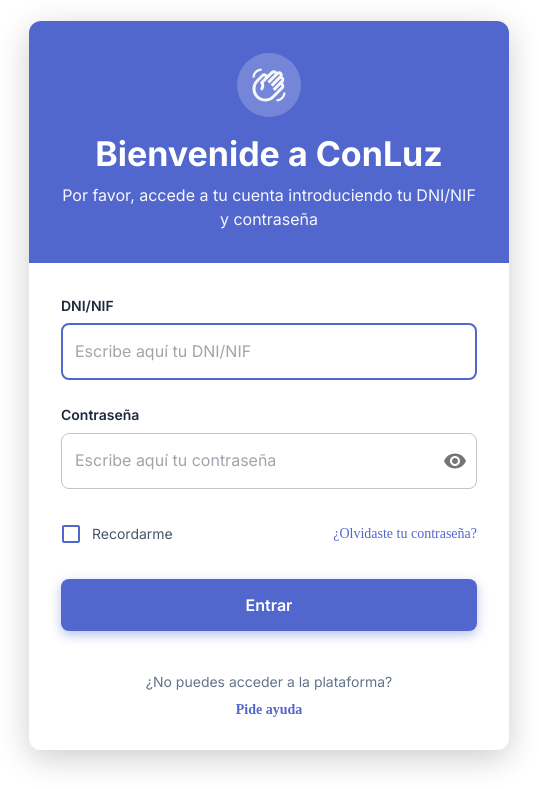
Test case: Login component › shows error if login fails
In the field with placeholder "Escribe aquí tu DNI/NIF": (269, 352) top-left (61, 324), bottom-right (477, 380), type "1234567Z"
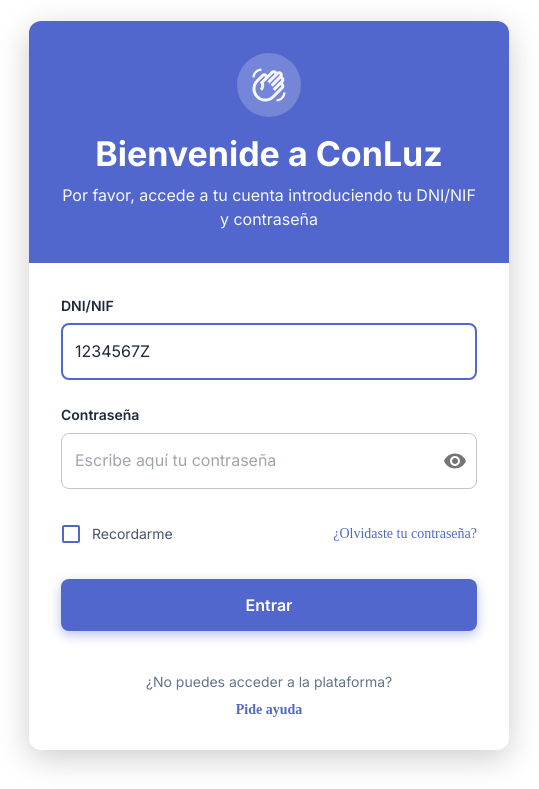
In the password field with placeholder "Escribe aquí tu contraseña": (244, 461) top-left (61, 433), bottom-right (427, 489), type "wrongpass"
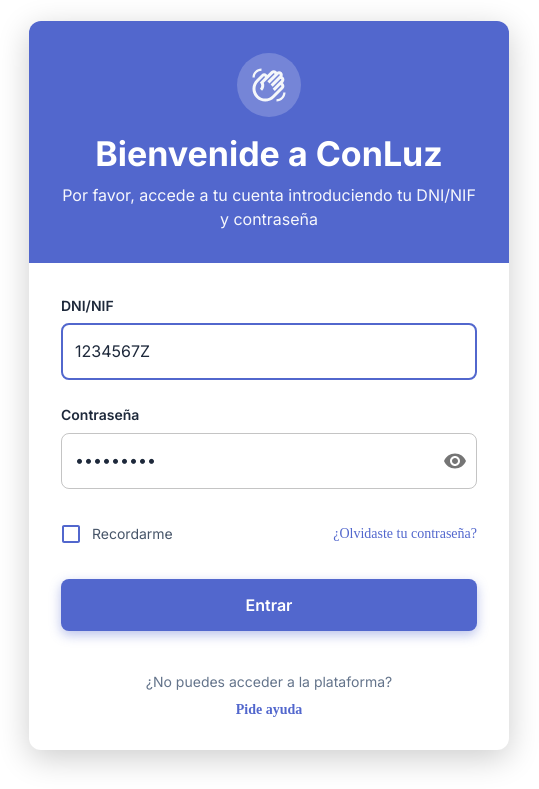
Click the button "Entrar": (269, 605) top-left (61, 579), bottom-right (477, 631)
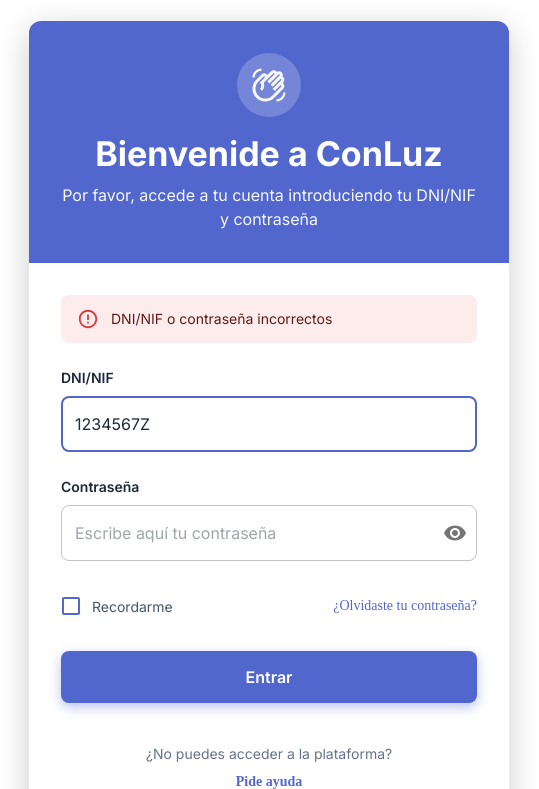
Expected: the text "DNI/NIF o contraseña incorrectos" is shown, top-left (111, 310), bottom-right (332, 327)
